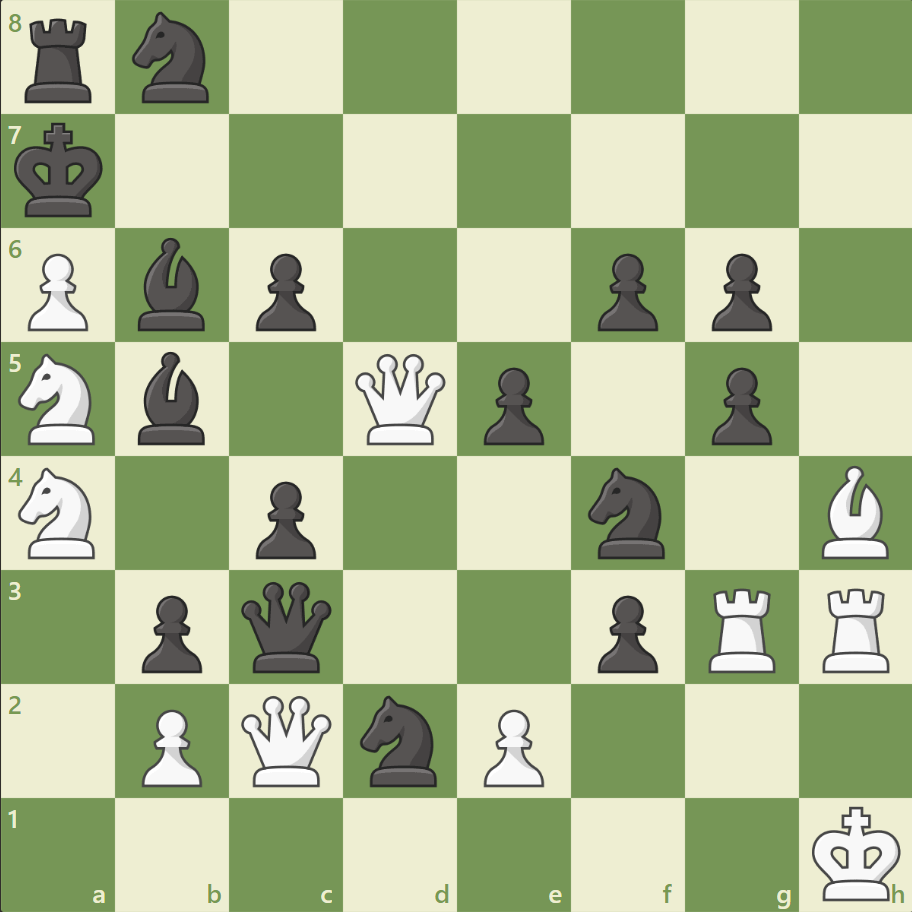B: (812, 460, 896, 563)
K: (806, 798, 906, 906)
N: (11, 461, 108, 564), (11, 348, 108, 450)
P: (20, 246, 95, 337), (133, 700, 208, 791), (474, 700, 549, 791)
Q: (351, 349, 450, 449), (237, 690, 336, 789)
R: (700, 579, 783, 676), (814, 579, 897, 676)
b: (131, 233, 215, 336), (131, 347, 215, 449)
k: (11, 117, 111, 225)
n: (124, 7, 222, 110), (351, 688, 449, 791), (579, 461, 676, 564)
p: (247, 246, 322, 337), (701, 246, 776, 337), (474, 359, 549, 450), (701, 359, 776, 450), (247, 473, 322, 564), (133, 586, 208, 677), (588, 246, 662, 337), (588, 586, 662, 677)
q: (237, 576, 336, 676)
r: (19, 12, 102, 109)
